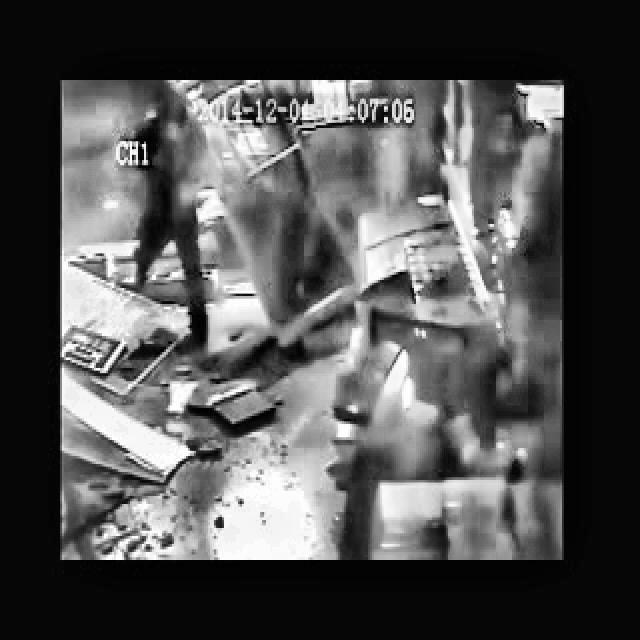burglary: (116, 81, 228, 368)
